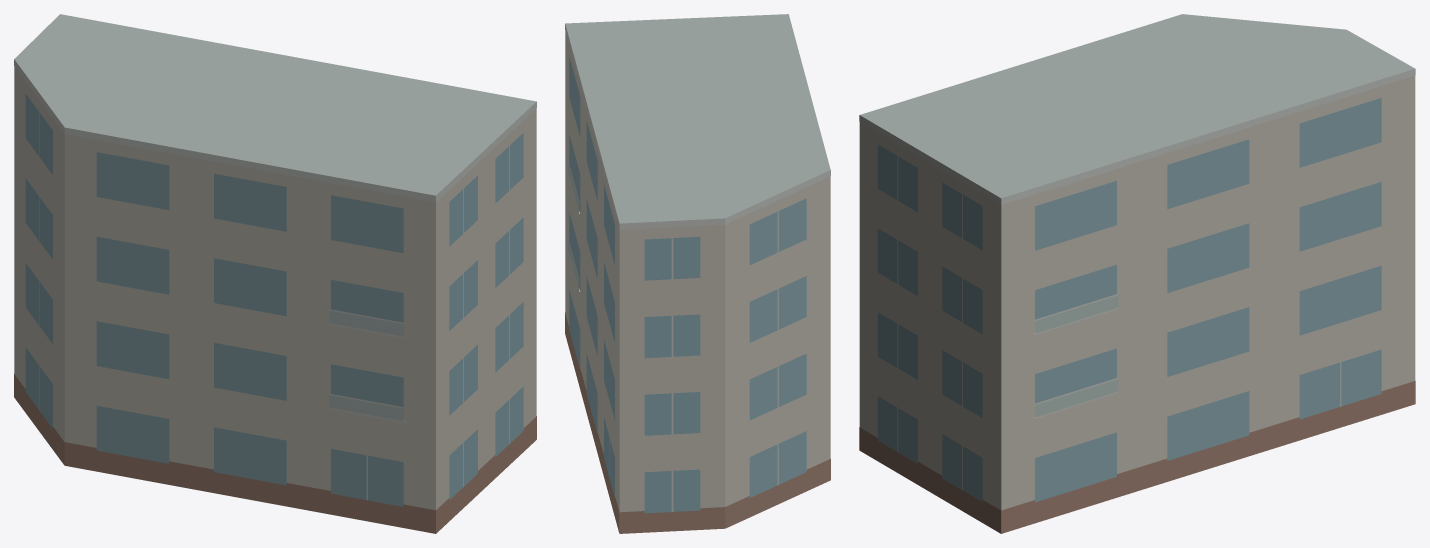
The model's file is survey-upis-32780039.glb.
The picture shows the model from 3 angles, left to right: view 1: azimuth 30°, elevation 25°; view 2: azimuth 150°, elevation 25°; view 3: azimuth 270°, elevation 25°; orthographic projection. The views are drawn at different scales.
Visible parts, largest first — view 1: survey-upis-32780039.tmp; view 2: survey-upis-32780039.tmp; view 3: survey-upis-32780039.tmp.
Boxes of the visible parts, x1=… form: survey-upis-32780039.tmp: x1=14, y1=14, x2=536, y2=533; survey-upis-32780039.tmp: x1=565, y1=14, x2=830, y2=533; survey-upis-32780039.tmp: x1=859, y1=14, x2=1415, y2=533.
Bounding box in the file's own units: 14.28 × 12.11 × 18.19.
